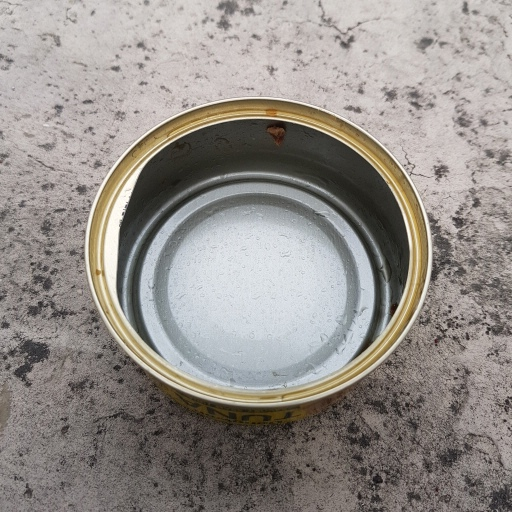Metal_1: (87, 96, 431, 419)
